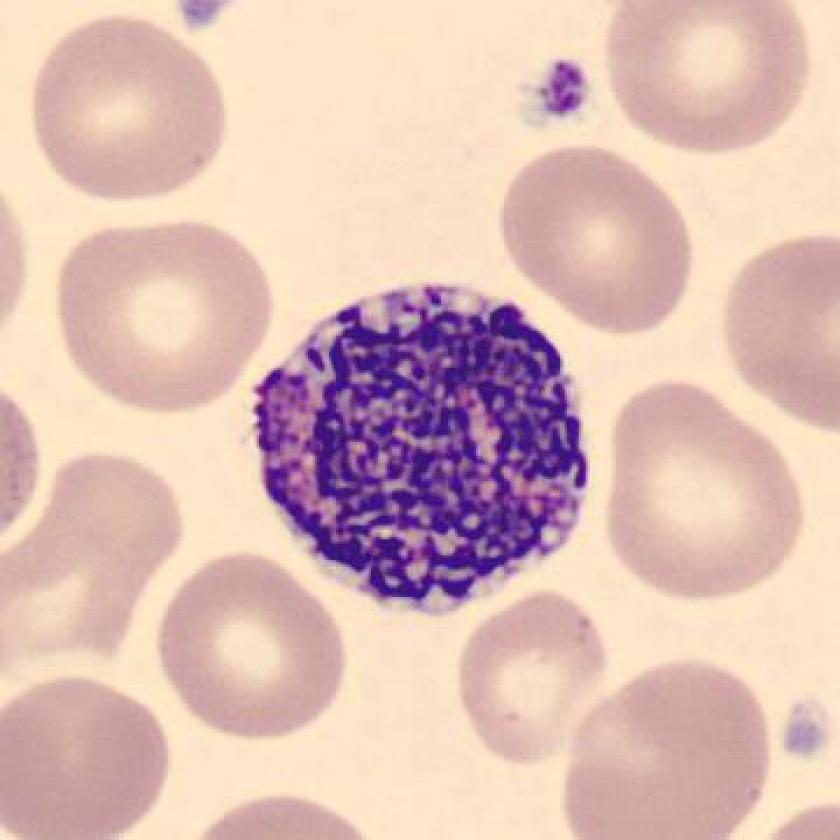basophil: (246, 274, 603, 603)
